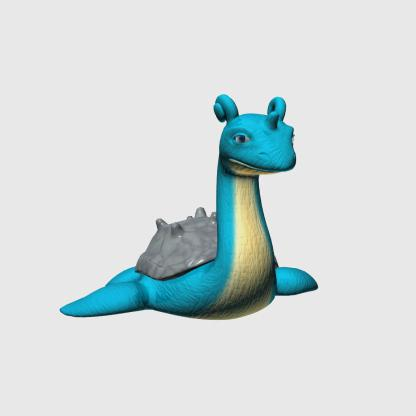Lapras: (55, 69, 338, 342)
